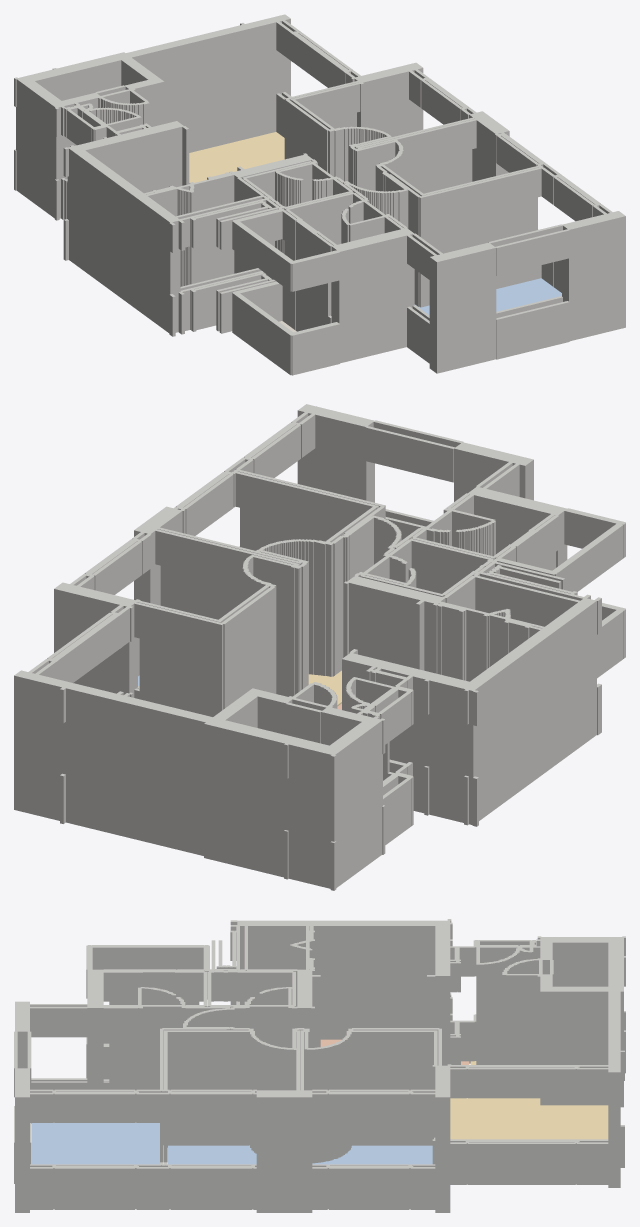
3 renders of one model, top to bottom at view 1: azimuth 30°, elevation 25°; view 2: azimuth 150°, elevation 25°; view 3: azimuth 270°, elevation 25°, orthographic. The views are drawn at different scales.
Parts seen in each view (by area): view 1: walls, room:living:1, room:bedroom:9; view 2: walls; view 3: walls, room:living:1, room:bedroom:9, room:bedroom:2, room:bedroom:7.
Boxes of the visible parts, bbox=[...] form: walls: bbox=[14, 14, 625, 375]; room:living:1: bbox=[189, 132, 284, 182]; room:bedroom:9: bbox=[414, 278, 561, 314]; walls: bbox=[14, 404, 625, 890]; walls: bbox=[14, 919, 625, 1212]; room:living:1: bbox=[450, 1061, 608, 1139]; room:bedroom:9: bbox=[31, 1122, 159, 1164]; room:bedroom:2: bbox=[312, 1145, 432, 1164]; room:bedroom:7: bbox=[168, 1145, 256, 1164].
Size of the model in its own units: 9.25 by 2.8 by 13.43.
